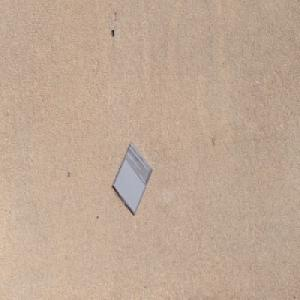PlasticPart: (112, 141, 154, 216)
